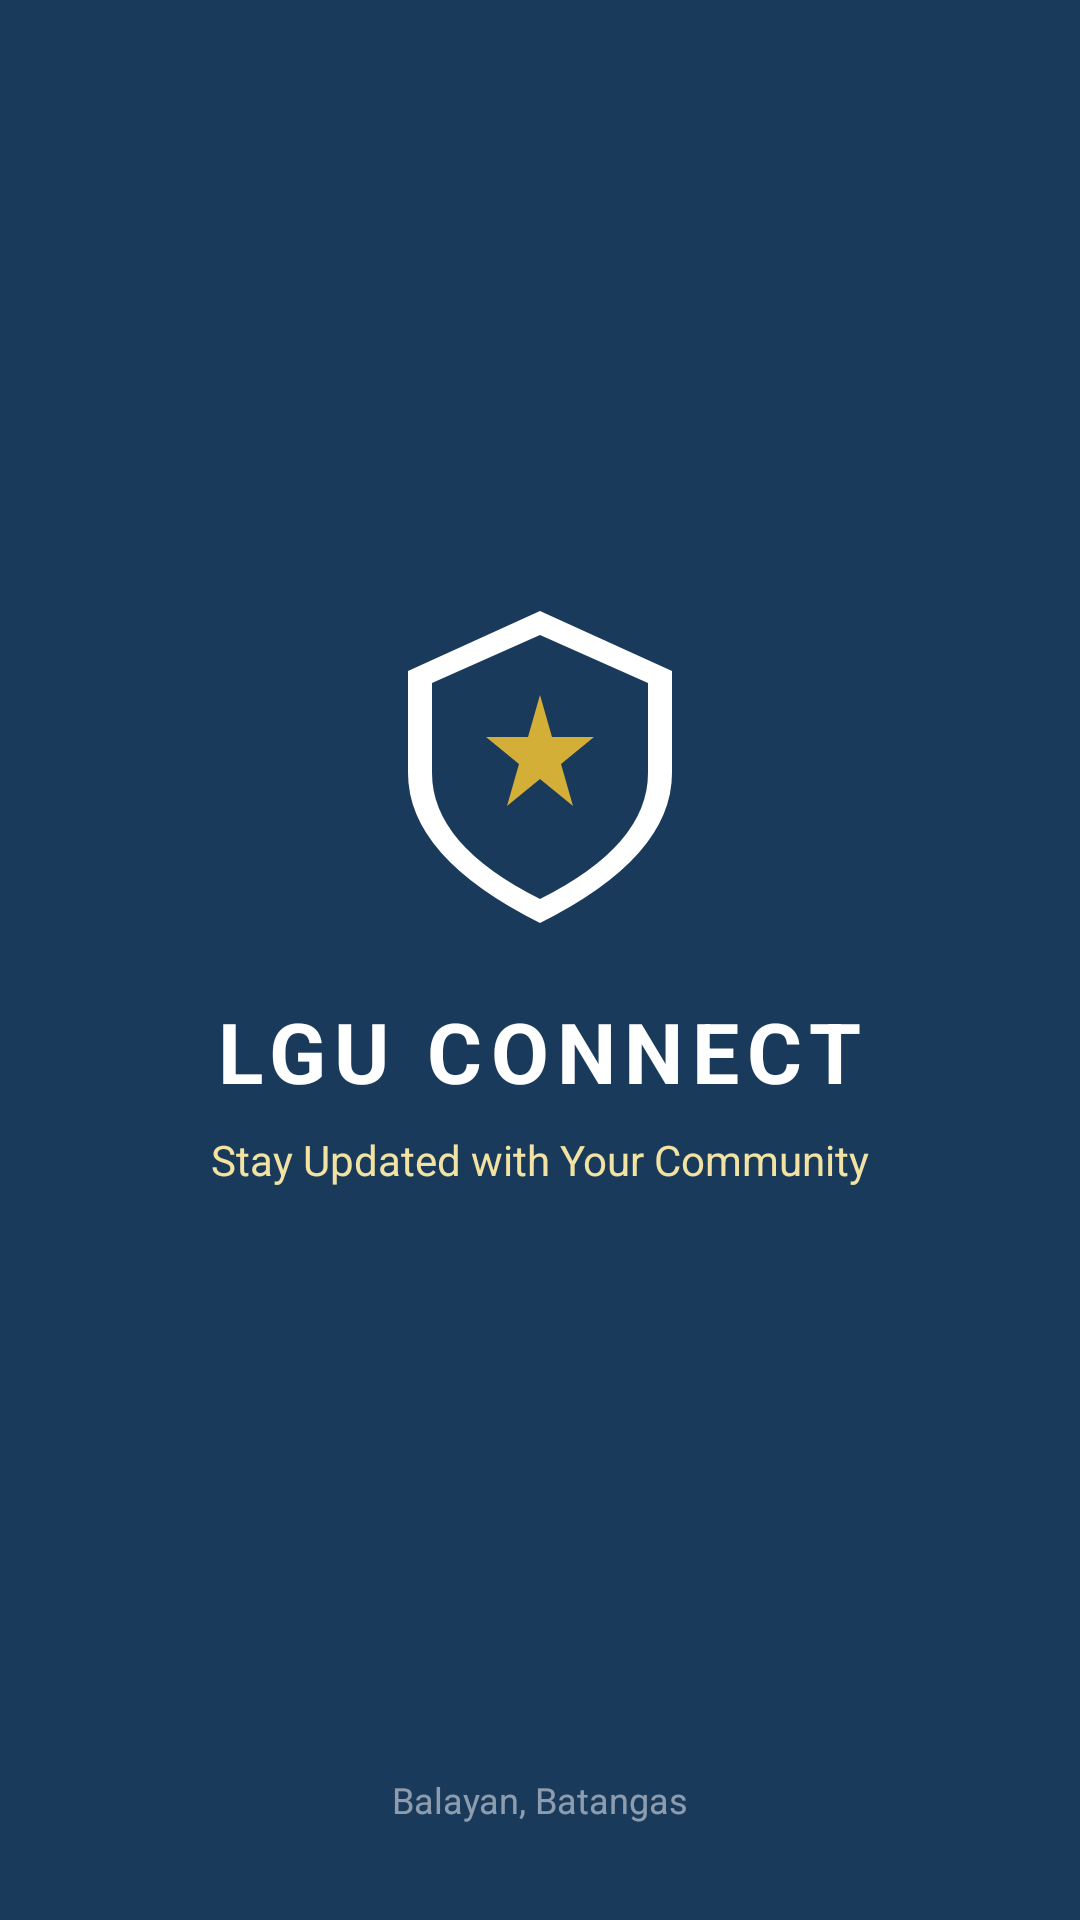

Point at icon controls on the screen. Image size 1080w x 1920h, points as point (x, y).
lgu shield: point (540, 767)
